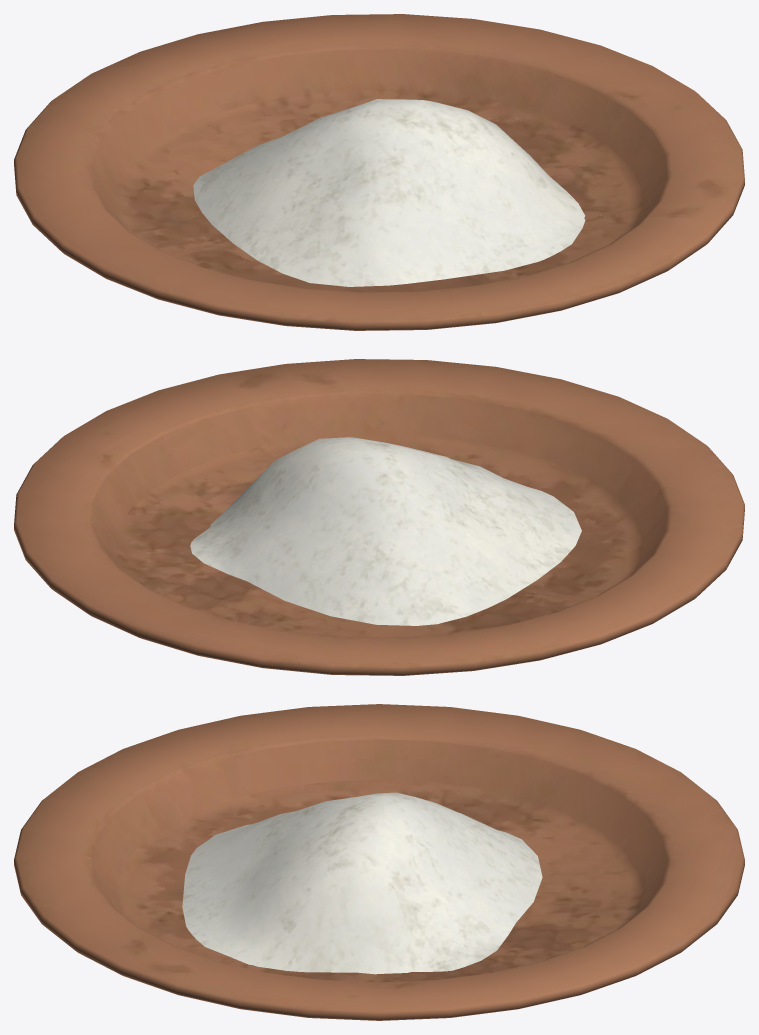
The model's file is salt.glb.
3 views of the same model, one above another, from view 1: azimuth 30°, elevation 25°; view 2: azimuth 150°, elevation 25°; view 3: azimuth 270°, elevation 25° (orthographic).
Visible parts, largest first — view 1: SM_Metalware_02a3_StaticMeshComponent0.001, SM_Flour_Med_01a_174_StaticMeshComponent0; view 2: SM_Metalware_02a3_StaticMeshComponent0.001, SM_Flour_Med_01a_174_StaticMeshComponent0; view 3: SM_Metalware_02a3_StaticMeshComponent0.001, SM_Flour_Med_01a_174_StaticMeshComponent0.
Boxes of the visible parts, box(x1,y1,x2,y2) form: SM_Metalware_02a3_StaticMeshComponent0.001: box(14, 14, 744, 330); SM_Flour_Med_01a_174_StaticMeshComponent0: box(193, 99, 585, 286); SM_Metalware_02a3_StaticMeshComponent0.001: box(14, 359, 744, 675); SM_Flour_Med_01a_174_StaticMeshComponent0: box(190, 437, 581, 625); SM_Metalware_02a3_StaticMeshComponent0.001: box(14, 704, 744, 1020); SM_Flour_Med_01a_174_StaticMeshComponent0: box(182, 792, 542, 974).
Size of the model in its own units: 0.6151 by 0.1107 by 0.615.
Materials: 2 (2 with a texture image).
